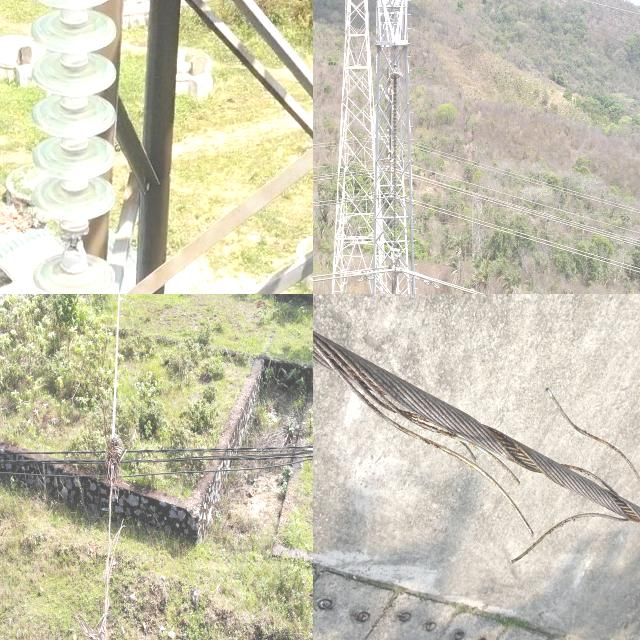杆塔: (15, 0, 313, 294), (324, 0, 392, 294), (367, 0, 422, 294)
正常绝缘子: (24, 0, 139, 294), (390, 71, 401, 254)
电缆破损: (351, 310, 640, 546), (83, 397, 135, 640)
绝缘子破损: (56, 224, 92, 258)
